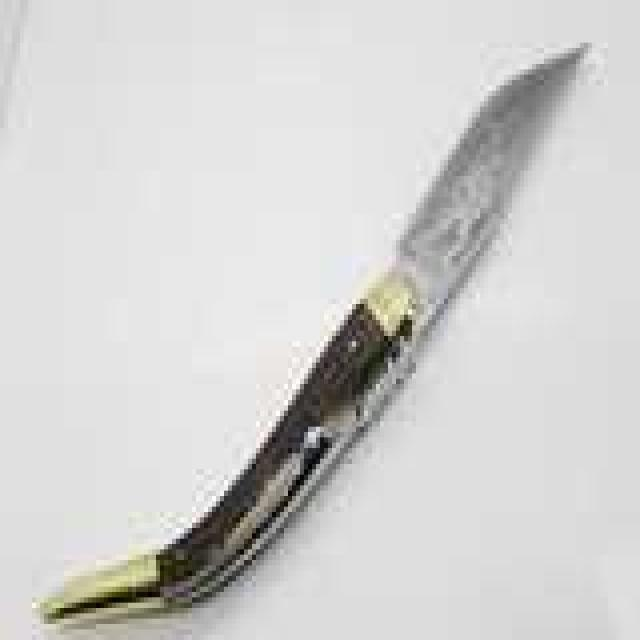Knife: (16, 38, 590, 637)
